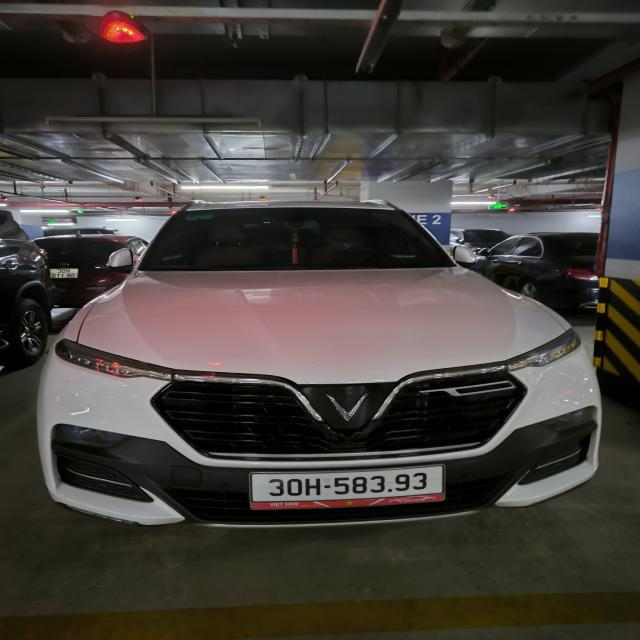license: (247, 463, 446, 510)
